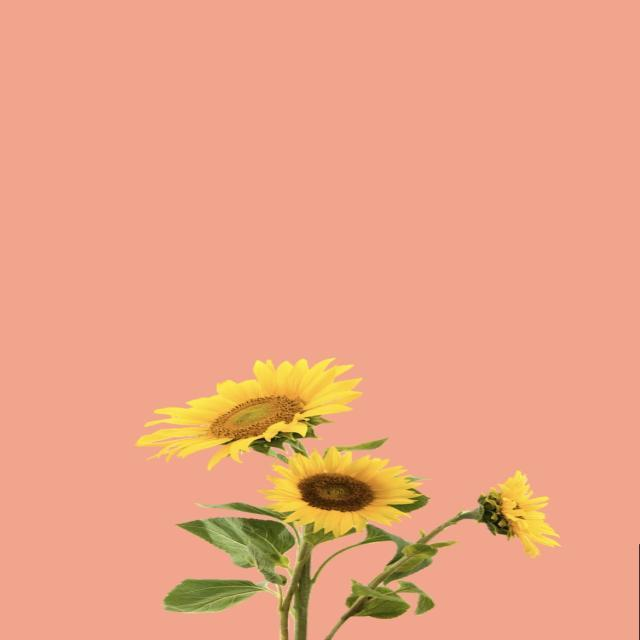sunflower: (134, 357, 363, 470), (257, 447, 424, 538), (498, 470, 561, 558)
